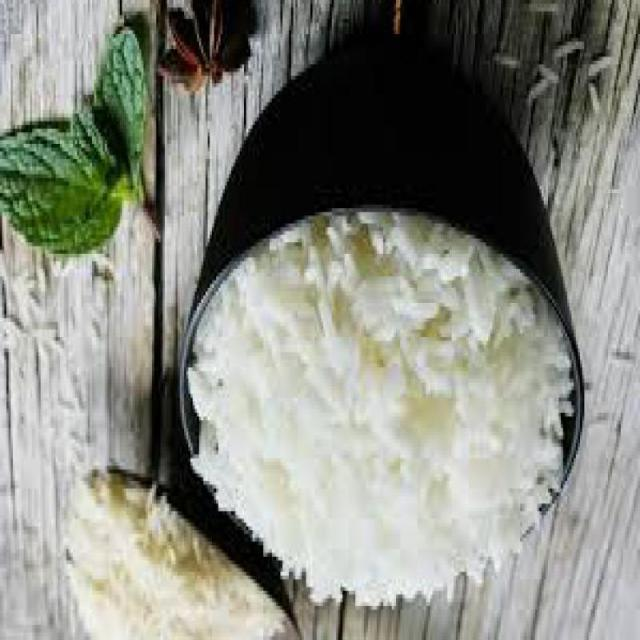nasi_putih: (187, 210, 573, 612)
